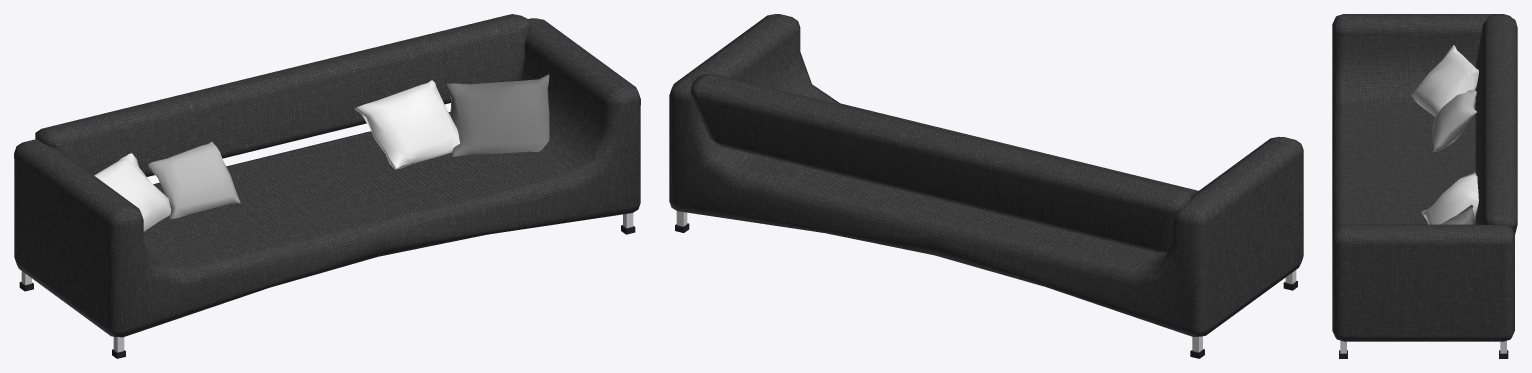
Rendered from sofa_017.fbx.
3 renders of one model, left to right at view 1: azimuth 30°, elevation 25°; view 2: azimuth 150°, elevation 25°; view 3: azimuth 270°, elevation 25°, orthographic. The views are drawn at different scales.
Parts seen in each view (by area): view 1: sofa_017; view 2: sofa_017; view 3: sofa_017.
Boxes of the visible parts, left/top/right/bottom form: sofa_017: left=14, top=14, right=640, bottom=358; sofa_017: left=669, top=14, right=1303, bottom=358; sofa_017: left=1332, top=14, right=1517, bottom=358.
Bounding box in the file's own units: 393 × 137 × 109.
